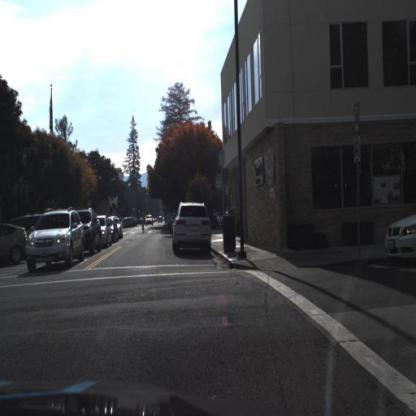car: (30, 209, 84, 270), (174, 202, 212, 257), (385, 203, 416, 269), (1, 222, 29, 268), (83, 207, 104, 257), (98, 212, 111, 245), (115, 217, 125, 238)
